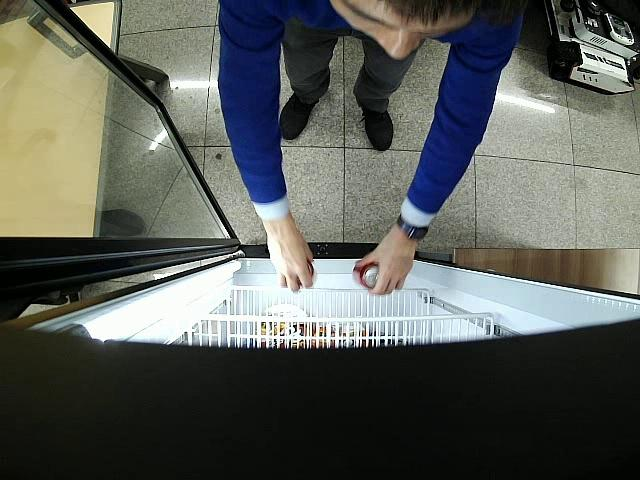00_hand: (356, 229, 415, 295), (267, 224, 314, 293)
11_cocaColaZero: (352, 261, 379, 289)
